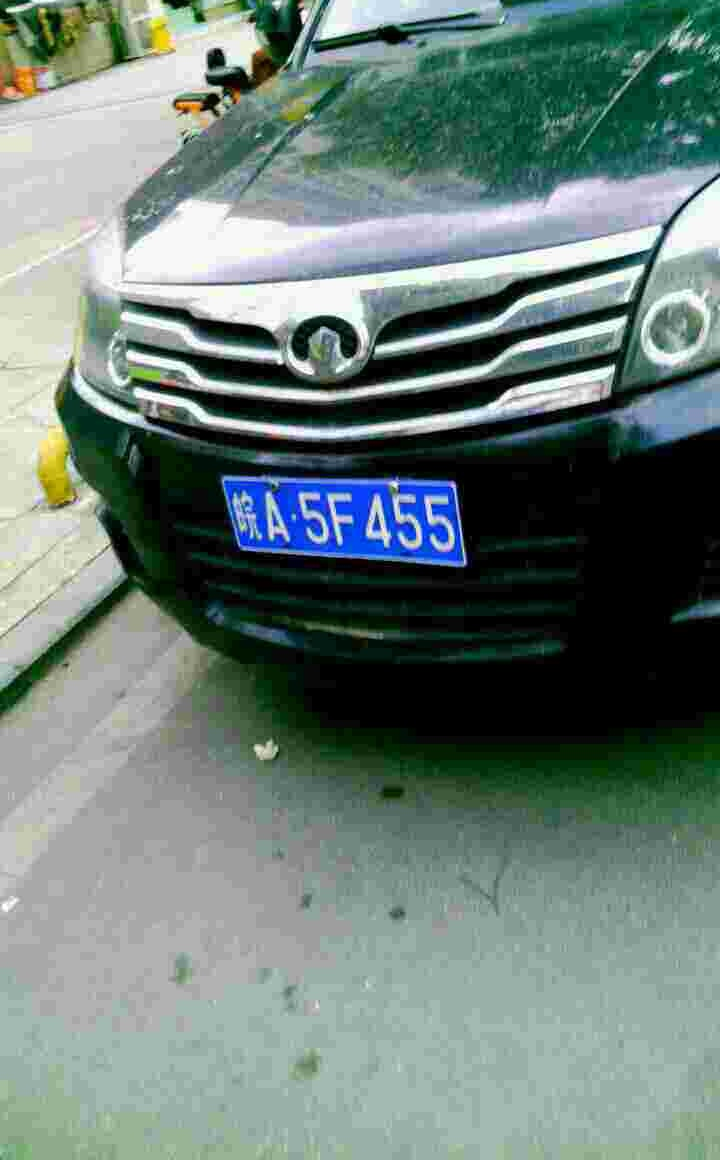license_plate: (224, 471, 467, 574)
